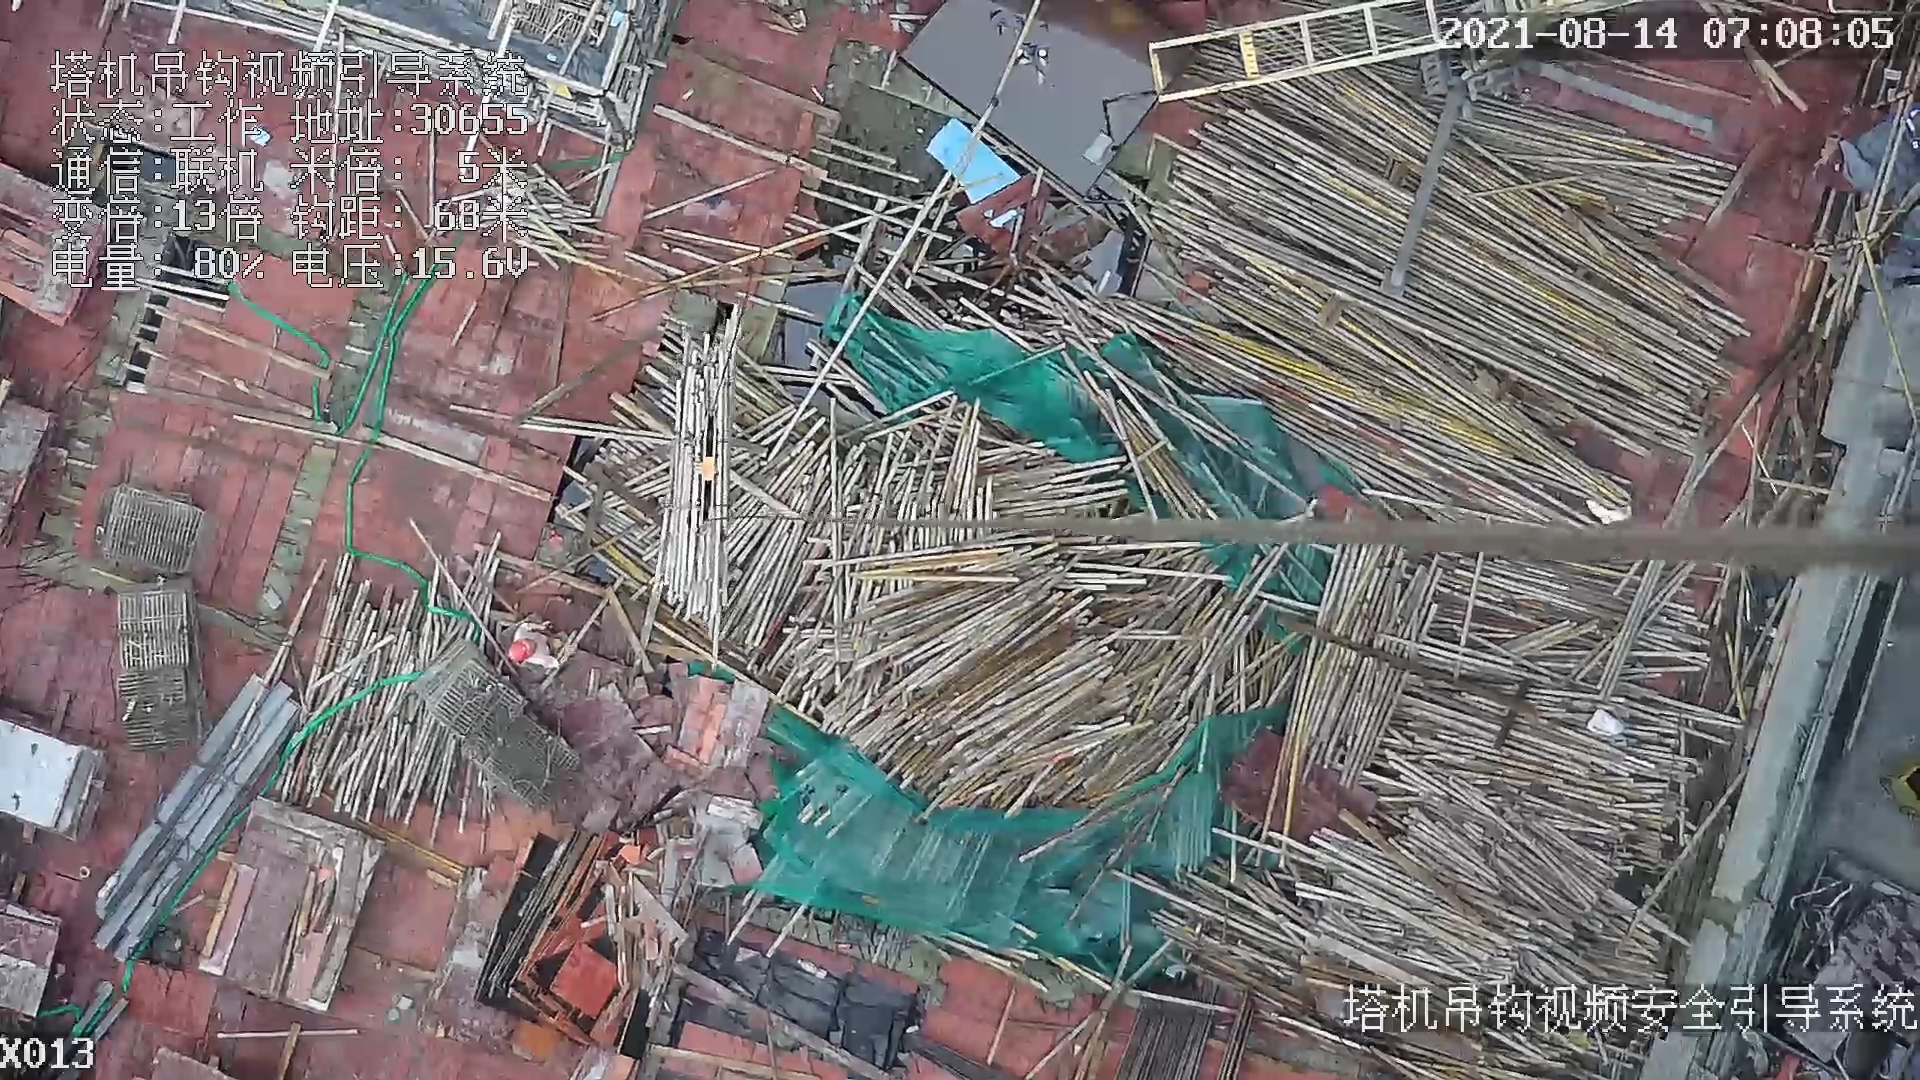helmet: (509, 638, 532, 663)
hook: (695, 406, 724, 537)
person: (504, 617, 562, 673)
